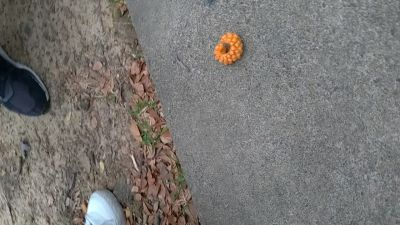eggs: (214, 32, 245, 67)
